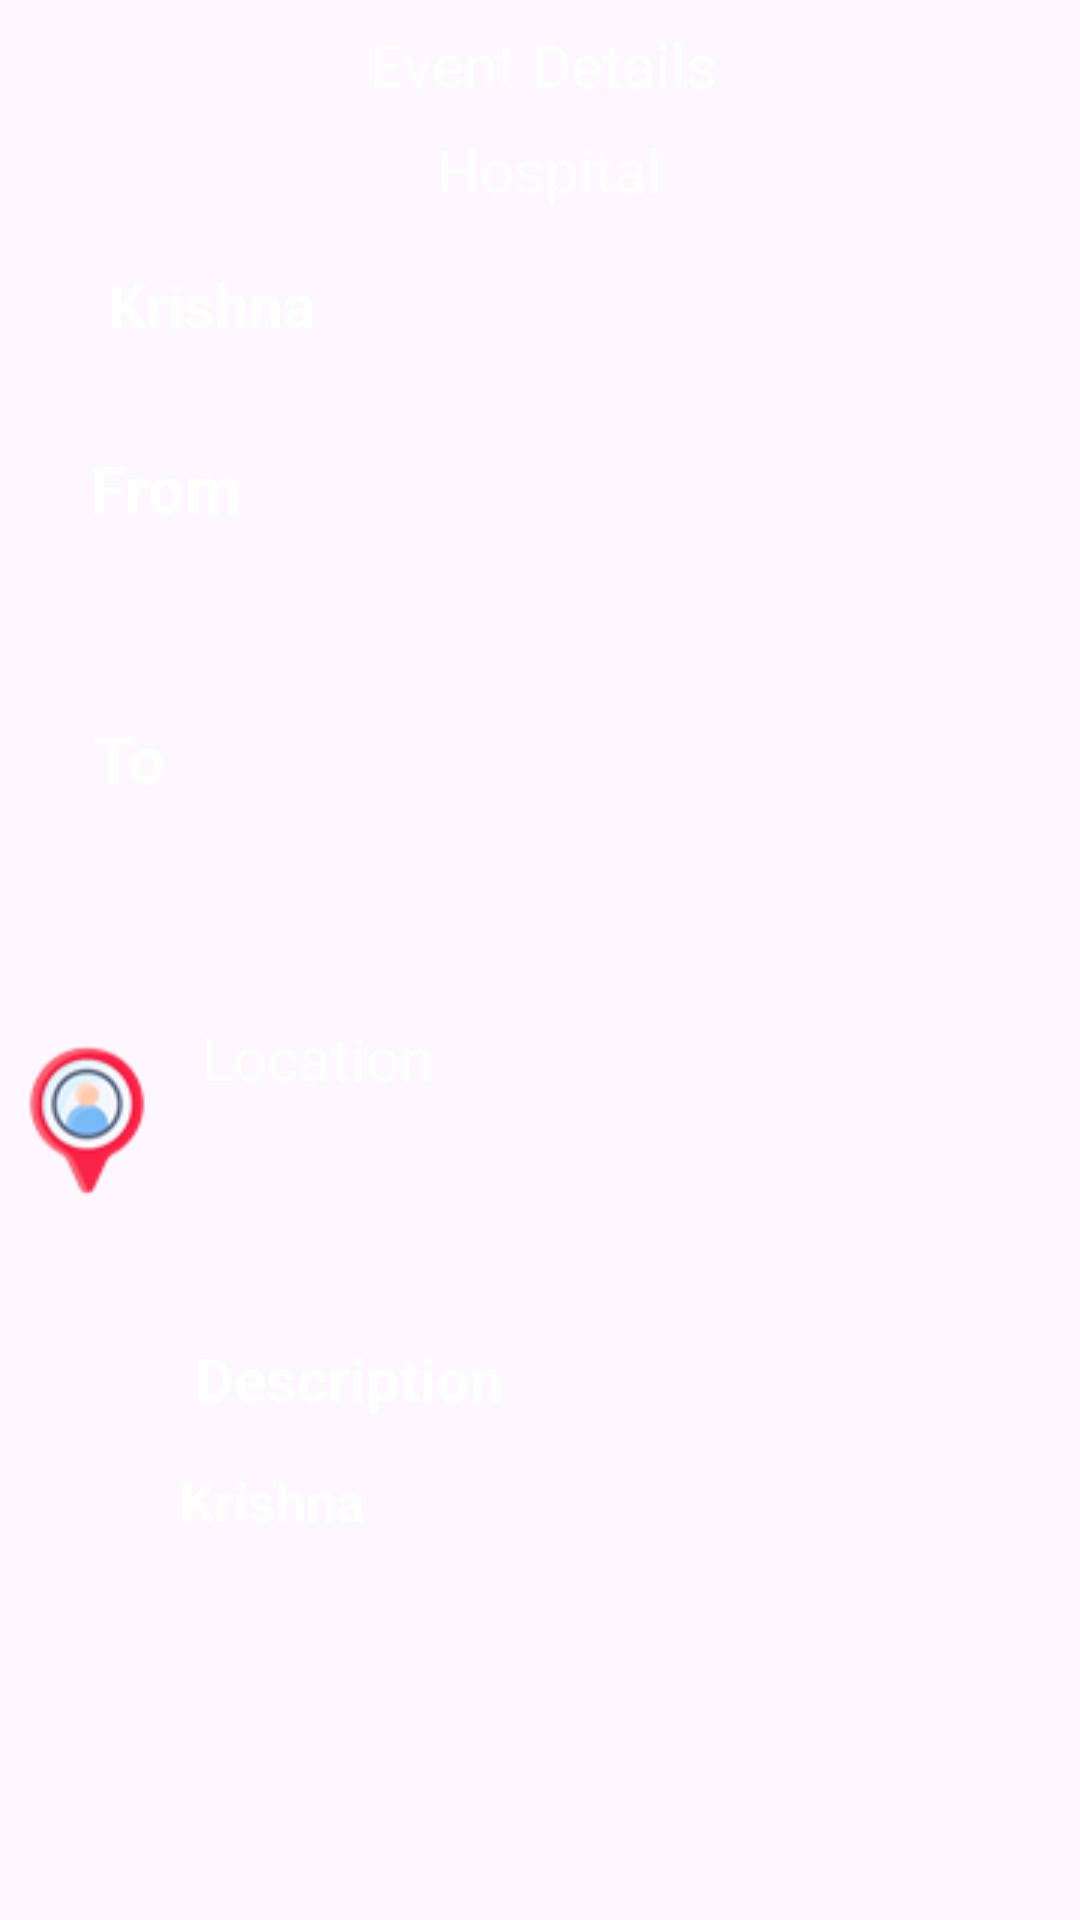

Where icons sit on this 1080 x 1920 app screen, as [x1,y1,x2,y2]:
user: [29,1046,145,1194]
